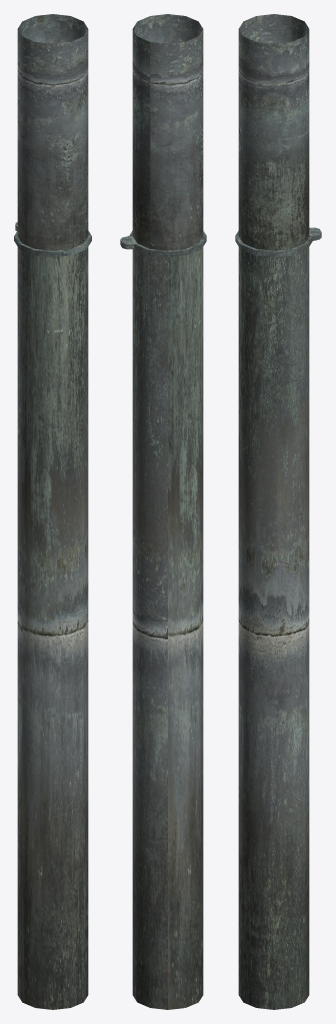
Rendered from DownSpout.FBX.
The picture shows the model from 3 angles, left to right: view 1: azimuth 90°, elevation 25°; view 2: azimuth 150°, elevation 25°; view 3: azimuth 330°, elevation 25°; orthographic projection.
Parts seen in each view (by area): view 1: Cylinder001; view 2: Cylinder001; view 3: Cylinder001.
Part boxes in pixels (x1,y1,x2,y2): Cylinder001: [14, 14, 91, 1009]; Cylinder001: [120, 14, 206, 1009]; Cylinder001: [235, 14, 321, 1009].
Size of the model in its own units: 21.86 by 300 by 21.86.
